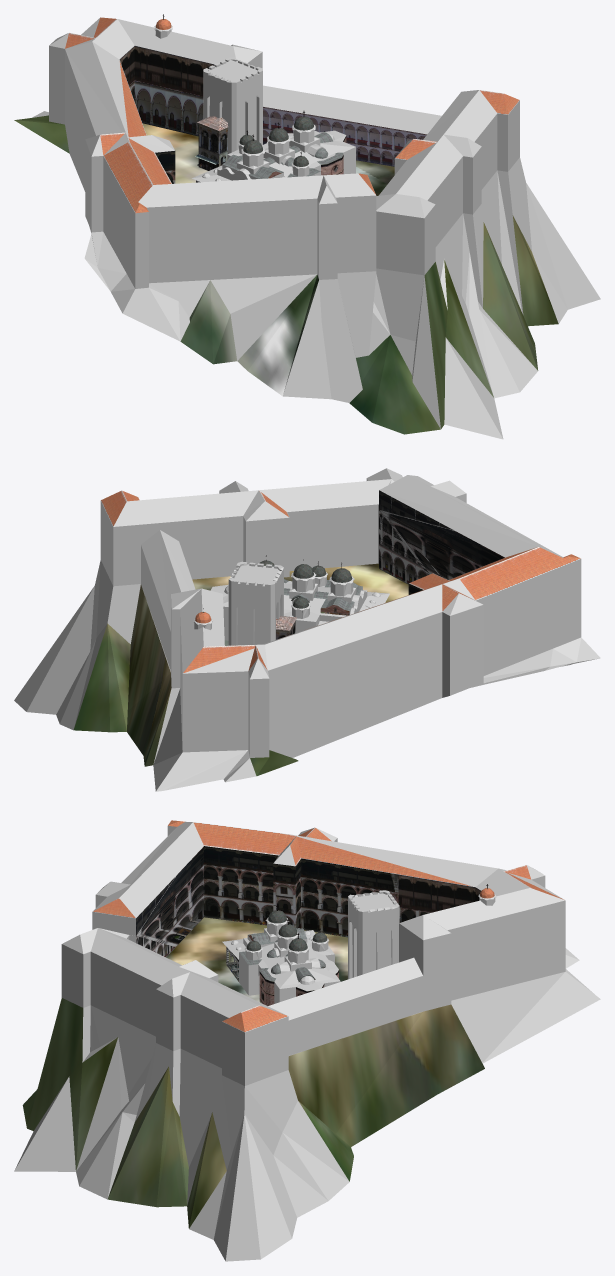
The model's file is Landmark_Bulgaria.glb.
3 renders of one model, top to bottom at view 1: azimuth 30°, elevation 25°; view 2: azimuth 150°, elevation 25°; view 3: azimuth 270°, elevation 25°, orthographic. The views are drawn at different scales.
Visible parts, largest first — view 1: _(Loose Entity); view 2: _(Loose Entity); view 3: _(Loose Entity).
Part boxes in pixels (x1=…): _(Loose Entity): x1=14, y1=14, x2=600, y2=439; _(Loose Entity): x1=14, y1=468, x2=600, y2=791; _(Loose Entity): x1=14, y1=820, x2=600, y2=1261.
Bounding box in the file's own units: 17.05 × 8.32 × 17.91.
24 materials, 23 textured.
